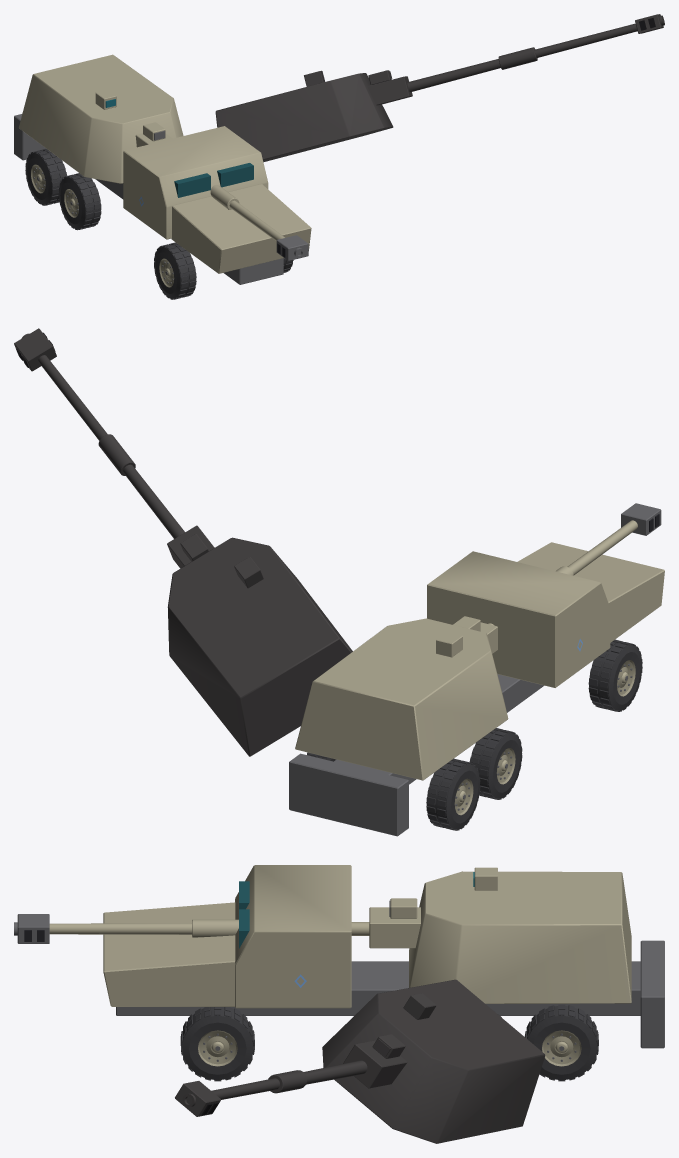
The model's file is wheeledHowitzer__archer.glb.
3 renders of one model, top to bottom at view 1: azimuth 30°, elevation 25°; view 2: azimuth 150°, elevation 25°; view 3: azimuth 270°, elevation 25°, orthographic. The views are drawn at different scales.
Parts seen in each view (by area): view 1: Hull_Mesh, Wreck, Turret_Mesh, Gun_Mesh, Wheel_L2_Mesh, Wheel_L1_Mesh, Wheel_L0_Mesh; view 2: Wreck, Hull_Mesh, Turret_Mesh, Wheel_L0_Mesh, Wheel_L2_Mesh, Wheel_L1_Mesh, Gun_Mesh; view 3: Hull_Mesh, Wreck, Turret_Mesh, Gun_Mesh, Wheel_R2_Mesh, Wheel_R0_Mesh.
Part boxes in pixels (<box>): Hull_Mesh: <box>14,114,311,284</box>; Wreck: <box>32,14,664,282</box>; Turret_Mesh: <box>18,54,183,183</box>; Gun_Mesh: <box>135,122,308,260</box>; Wheel_L2_Mesh: <box>154,242,196,299</box>; Wheel_L1_Mesh: <box>58,173,101,230</box>; Wheel_L0_Mesh: <box>25,148,67,205</box>; Wreck: <box>14,328,631,787</box>; Hull_Mesh: <box>289,542,664,836</box>; Turret_Mesh: <box>295,618,508,780</box>; Wheel_L0_Mesh: <box>426,758,480,830</box>; Wheel_L2_Mesh: <box>588,639,642,711</box>; Wheel_L1_Mesh: <box>469,728,522,799</box>; Gun_Mesh: <box>453,503,661,653</box>; Hull_Mesh: <box>103,865,664,1048</box>; Wreck: <box>175,979,574,1143</box>; Turret_Mesh: <box>409,867,631,1003</box>; Gun_Mesh: <box>14,898,420,948</box>; Wheel_R2_Mesh: <box>180,1007,254,1081</box>; Wheel_R0_Mesh: <box>524,1004,598,1081</box>.
Size of what is drawn, in the model's own units: 11.89 by 4.09 by 10.22.
